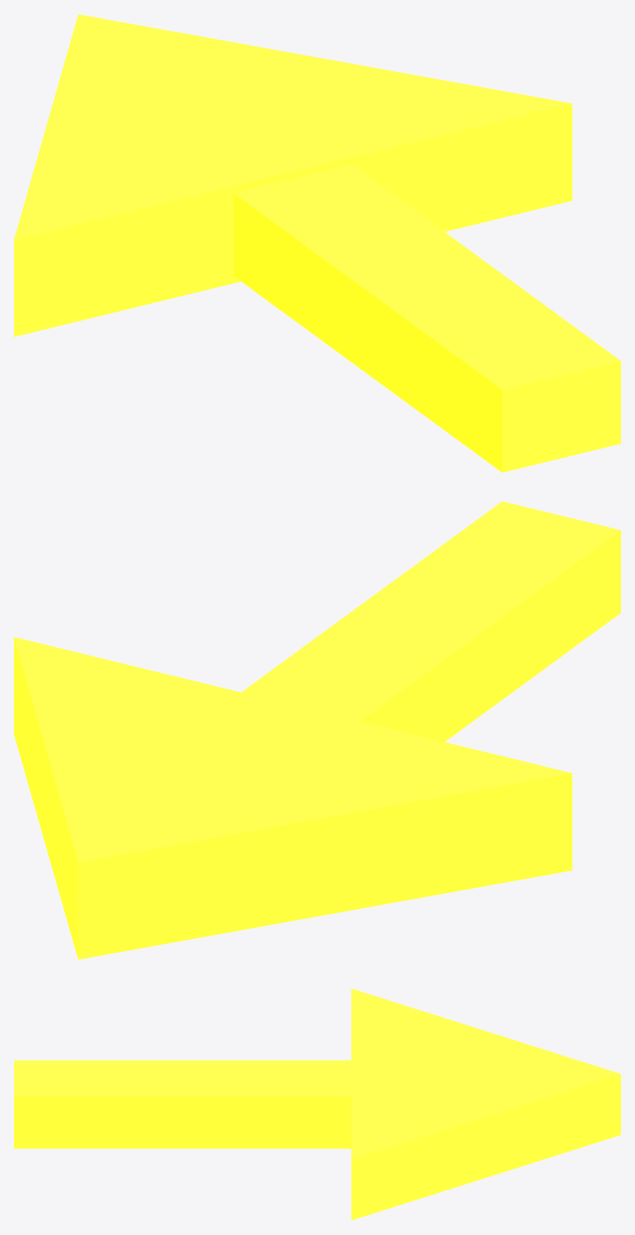
Rendered from flèche.fbx.
3 views of the same model, one above another, from view 1: azimuth 30°, elevation 25°; view 2: azimuth 150°, elevation 25°; view 3: azimuth 270°, elevation 25° (orthographic). The views are drawn at different scales.
Visible parts, largest first — view 1: Cube.001, Cube; view 2: Cube.001, Cube; view 3: Cube.001, Cube.
Boxes of the visible parts, box(x1,y1,x2,y2) form: Cube.001: box(14, 14, 572, 336); Cube: box(233, 164, 620, 472); Cube.001: box(14, 637, 572, 959); Cube: box(241, 501, 620, 741); Cube.001: box(351, 988, 620, 1220); Cube: box(14, 1060, 351, 1148).
Size of the model in its own units: 240 by 40 by 360.
